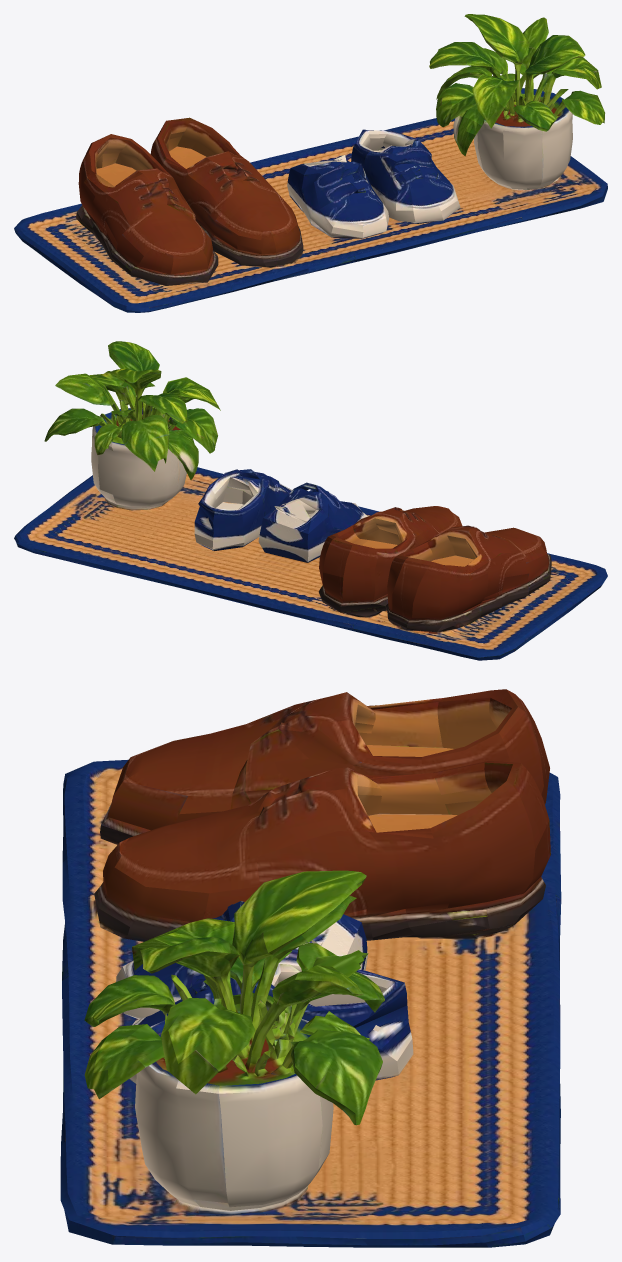
The picture shows the model from 3 angles, top to bottom: view 1: azimuth 30°, elevation 25°; view 2: azimuth 150°, elevation 25°; view 3: azimuth 270°, elevation 25°; orthographic projection. The views are drawn at different scales.
Parts seen in each view (by area): view 1: Mesh0; view 2: Mesh0; view 3: Mesh0.
Boxes of the visible parts, x1,y1,x2,y2 form: Mesh0: (14, 14, 607, 312); Mesh0: (14, 341, 607, 660); Mesh0: (60, 689, 561, 1247).
Bounding box in the file's own units: 1.9 × 0.5397 × 0.8086.
1 material, 1 textured.
